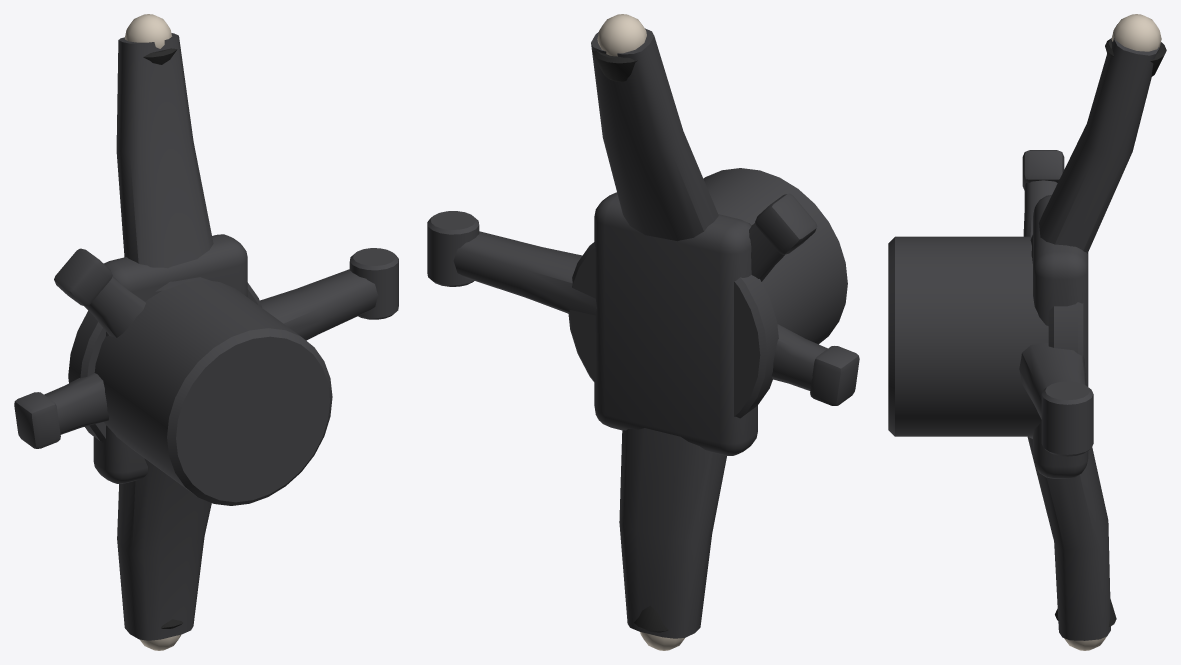
File: SM_Susp_RR_Upright.fbx
3 renders of one model, left to right at view 1: azimuth 30°, elevation 25°; view 2: azimuth 150°, elevation 25°; view 3: azimuth 270°, elevation 25°, orthographic. The views are drawn at different scales.
Visible parts, largest first — view 1: Export_Susp_RR_Upright; view 2: Export_Susp_RR_Upright; view 3: Export_Susp_RR_Upright.
Part boxes in pixels (x1,y1,x2,y2): Export_Susp_RR_Upright: [14, 14, 398, 650]; Export_Susp_RR_Upright: [427, 14, 859, 650]; Export_Susp_RR_Upright: [888, 14, 1166, 650].
Size of the model in its own units: 0.1615 by 0.2703 by 0.409.
